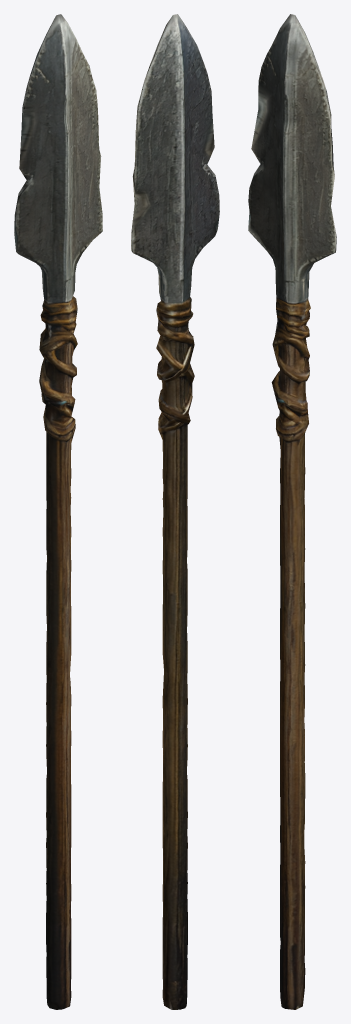
Rendered from Prop_Weapon_Spear.fbx.
The picture shows the model from 3 angles, left to right: view 1: azimuth 30°, elevation 25°; view 2: azimuth 210°, elevation 25°; view 3: azimuth 330°, elevation 25°; orthographic projection.
Parts seen in each view (by area): view 1: texture_mapping; view 2: texture_mapping; view 3: texture_mapping.
Boxes of the visible parts, x1,y1,x2,y2 form: texture_mapping: [14, 14, 102, 1009]; texture_mapping: [131, 14, 219, 1009]; texture_mapping: [248, 14, 336, 1009].
Bounding box in the file's own units: 0.0916 × 0.0357 × 0.9946.
Materials: 1 (1 with a texture image).
